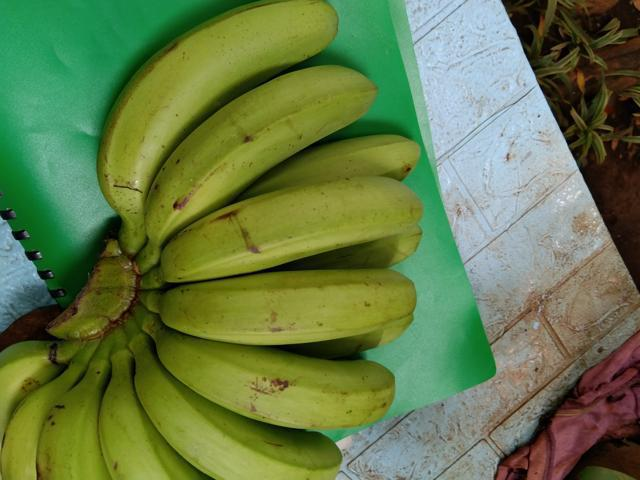freshunripe: (93, 0, 332, 217), (152, 261, 430, 355), (129, 365, 344, 479), (99, 374, 174, 479)
unripe: (139, 55, 375, 242), (146, 320, 405, 435), (176, 163, 425, 280), (25, 370, 122, 479)
